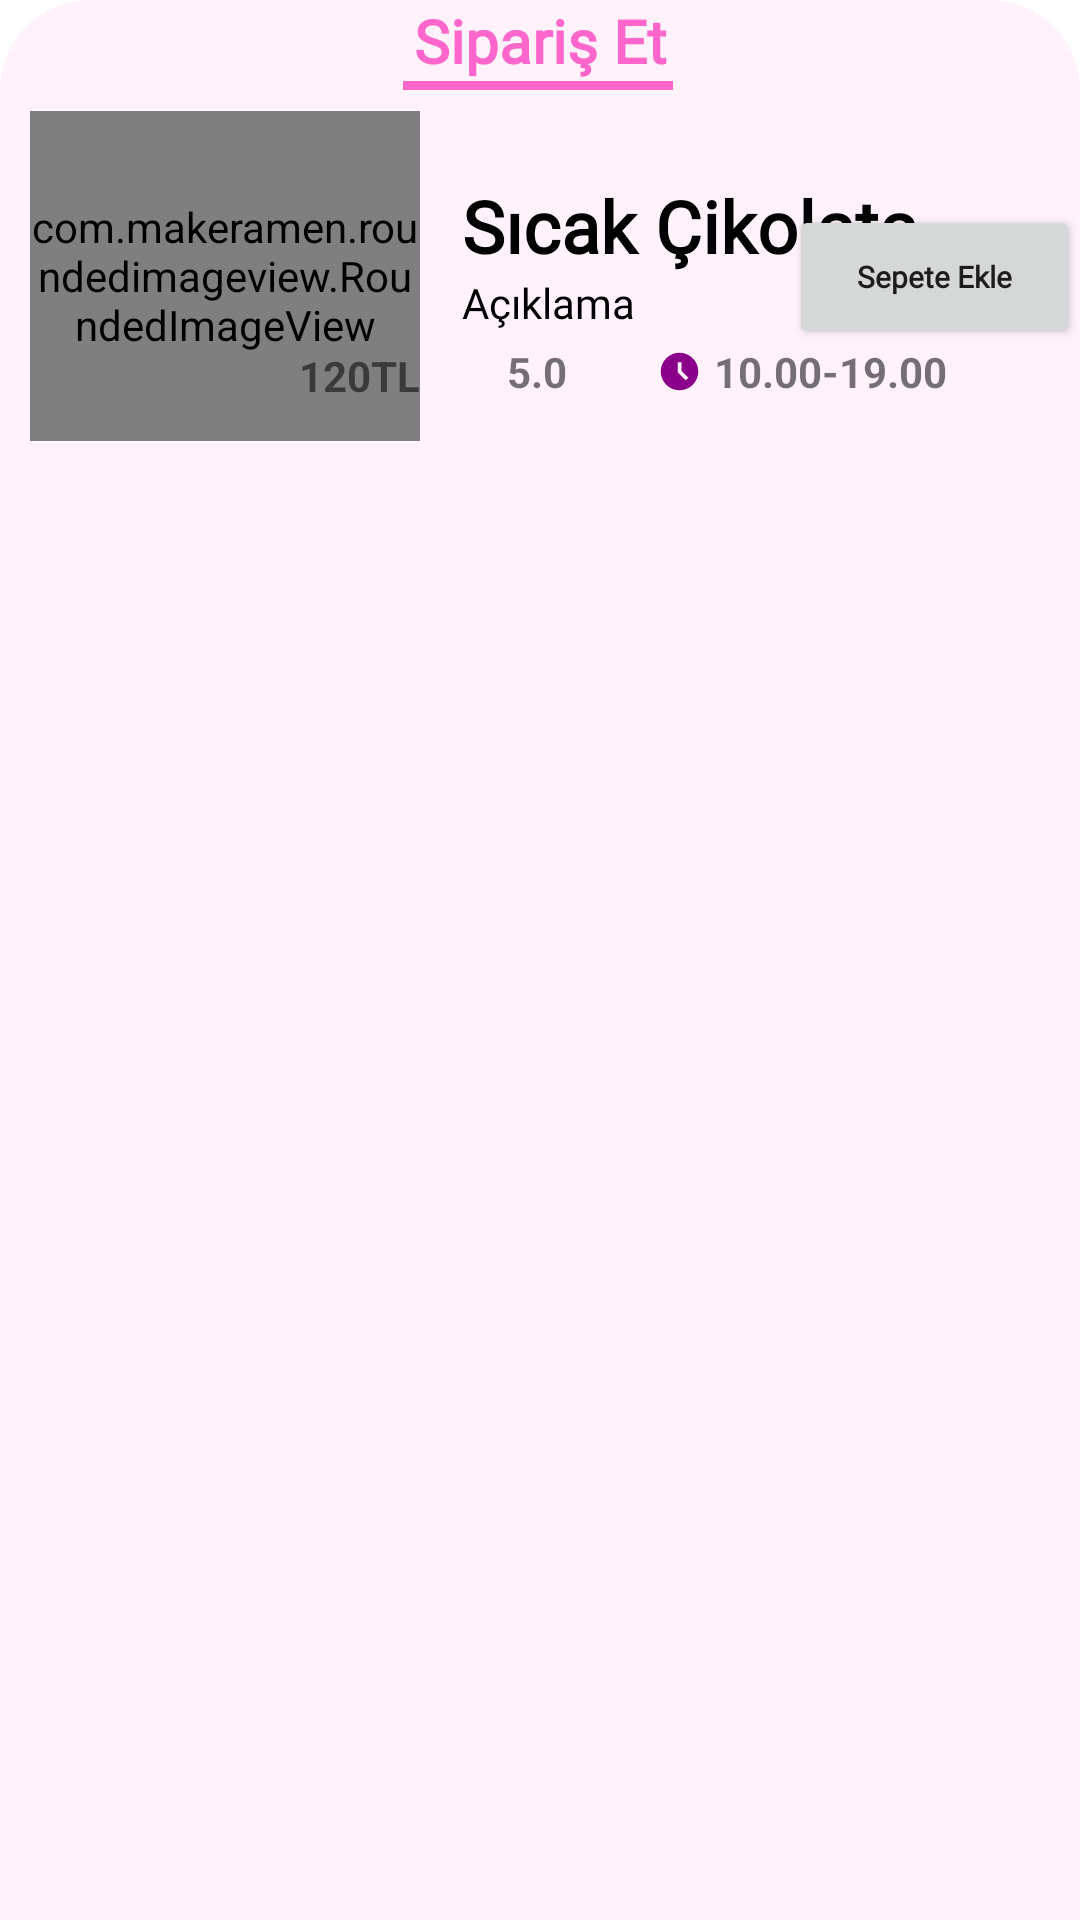

Where to tap for icons on this 1080×1920 app screen, as (x,y):
access time: (679,371)
